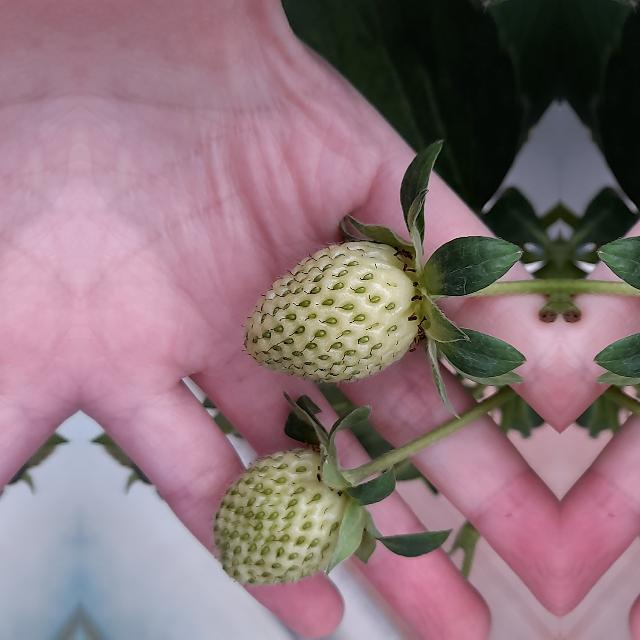Health_25: (244, 241, 418, 381), (210, 437, 364, 589)
